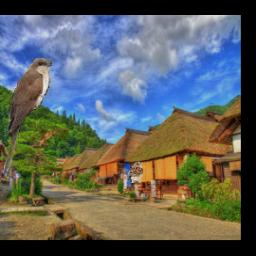Cuckoo: (5, 59, 53, 172)
Sparrow: (126, 162, 143, 184)
